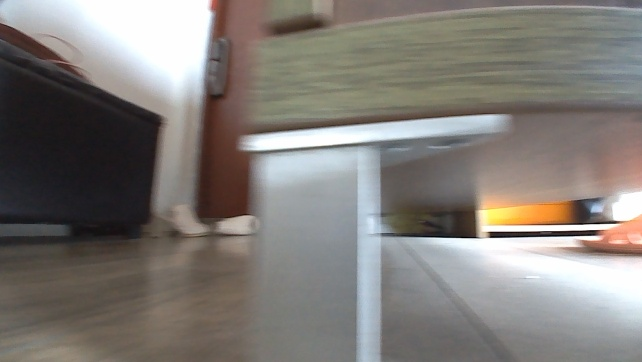shoe: (149, 200, 209, 239), (213, 212, 264, 240)
slipper: (576, 213, 641, 255)
sofa1: (0, 39, 165, 244)
